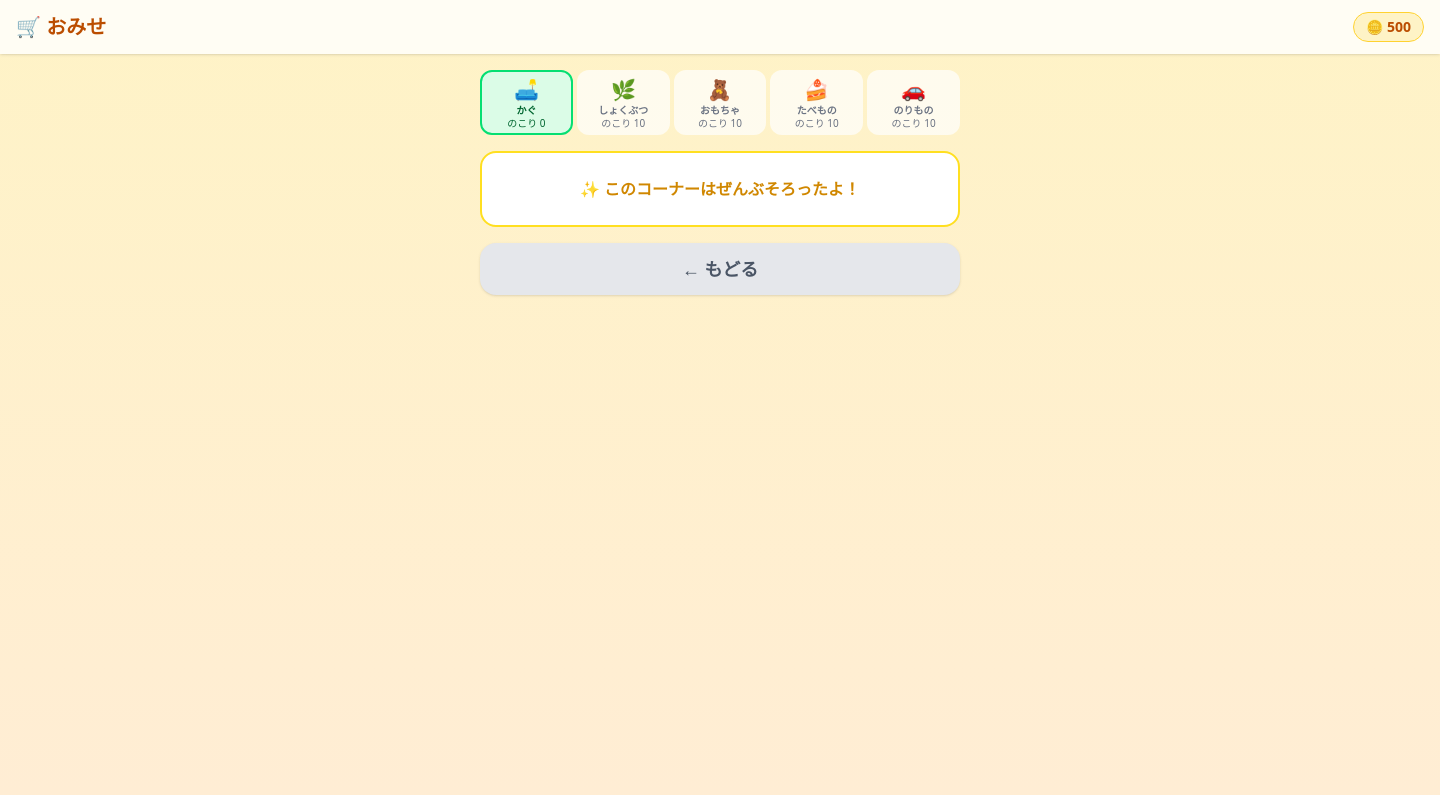
Test case: ShopScreen: 買ったあと・そろったとき・もどる › 1つのカテゴリをそろえると、そのタブに「このコーナーはぜんぶそろったよ」と出て、ほかのタブは買える
Expected: the text "✨ このコーナーはぜんぶそろったよ！" is shown, top-left (480, 151), bottom-right (960, 227)
Expected: the tab "🛋️ かぐ のこり 0" is shown, top-left (480, 70), bottom-right (573, 135)
Click the tab "🌿 しょくぶつ のこり 10" at (623, 102), box top-left (577, 70), bottom-right (670, 135)
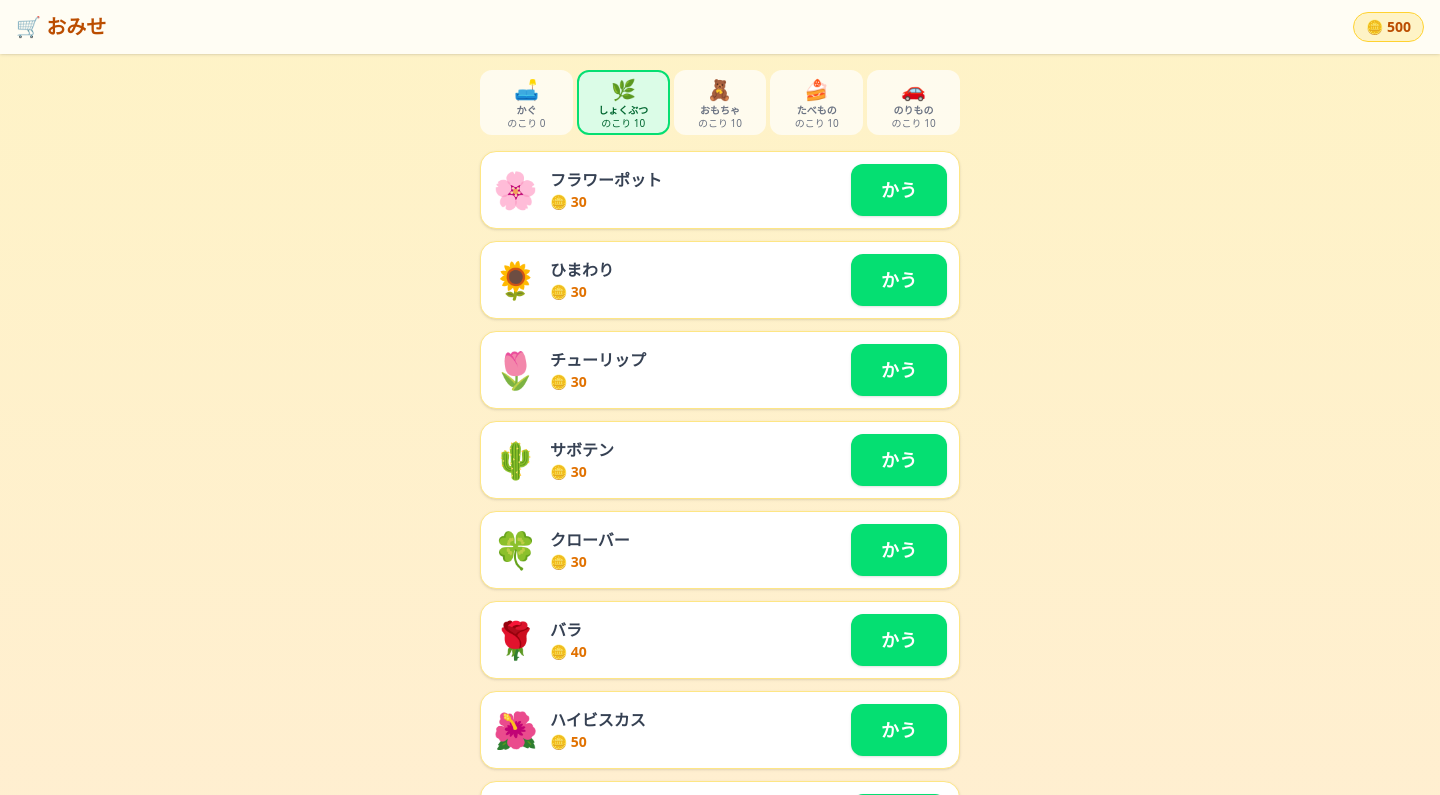
Expected: the number of list items is 10
Expected: the text "このコーナーはぜんぶそろったよ" is gone
